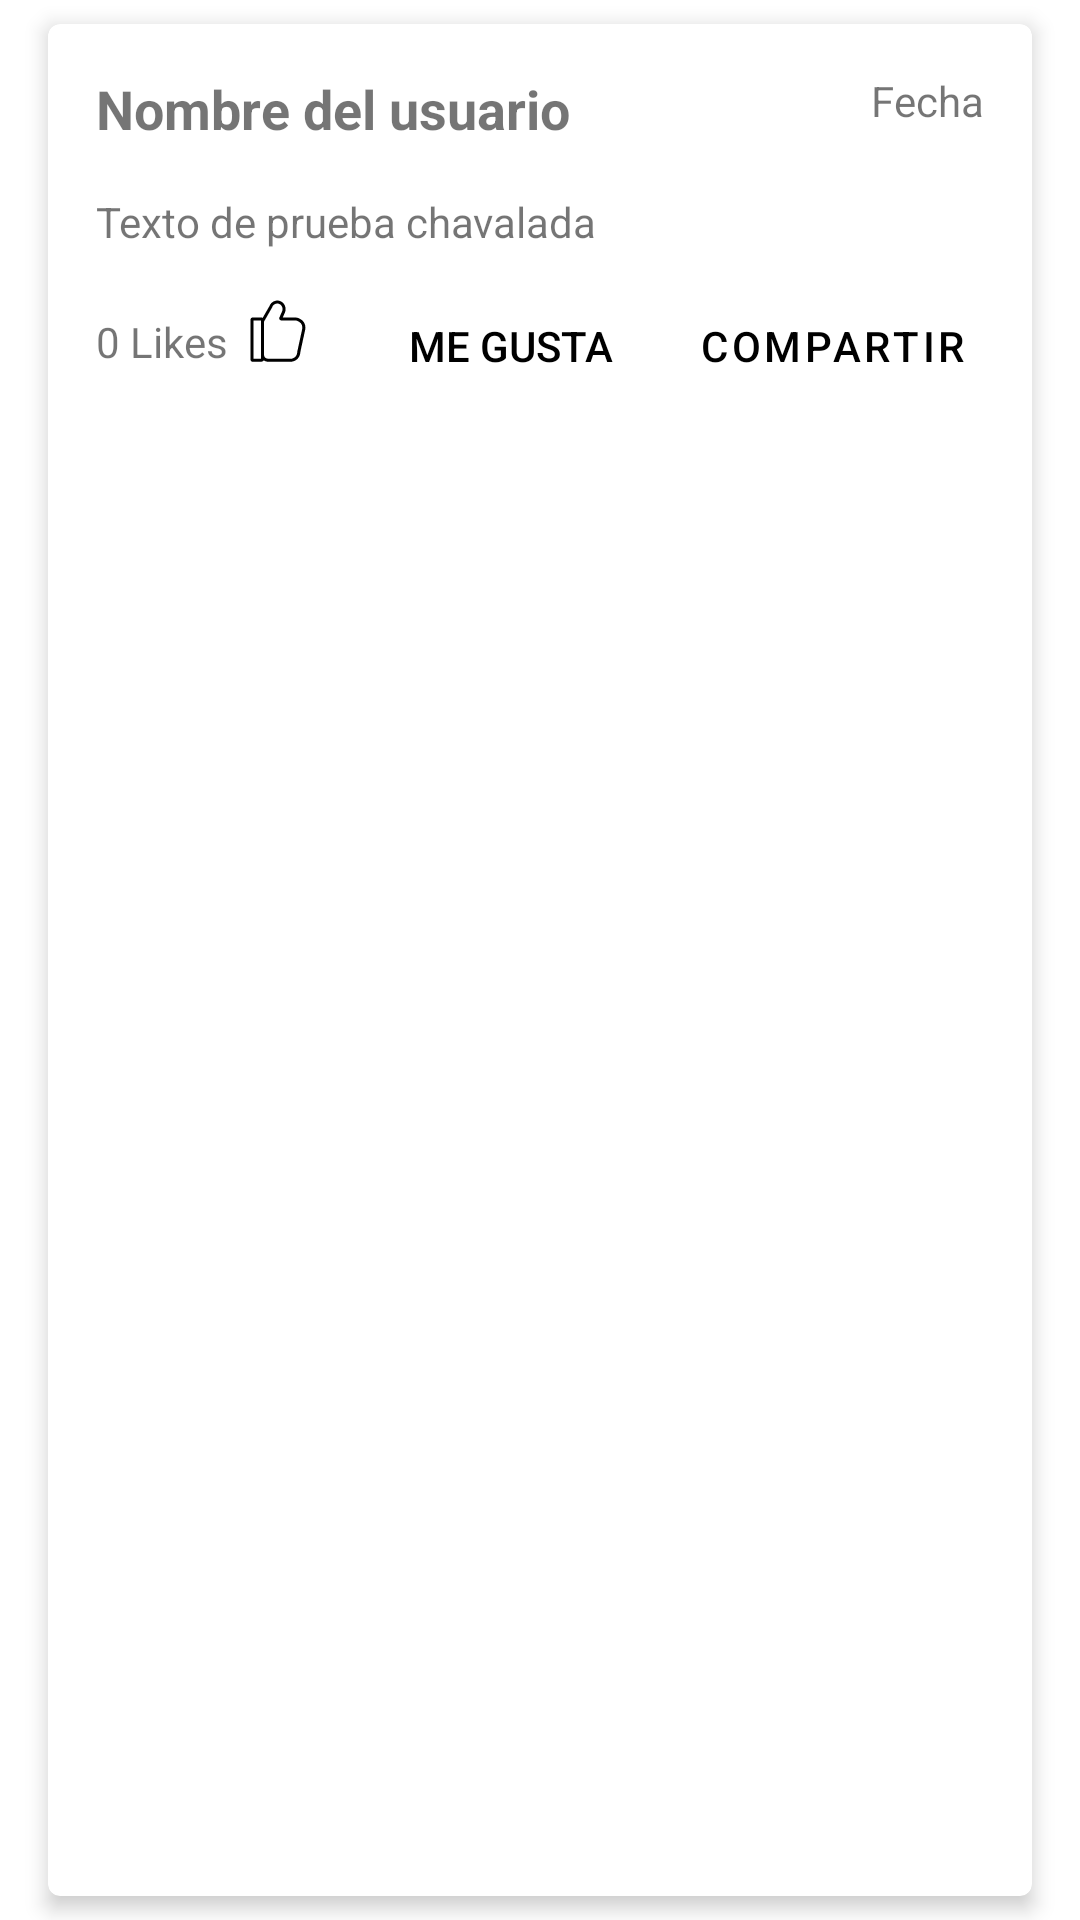

Named icons in this screenshot (1080×1920) and their bounding boxes, (x1,y1,x2,y2):
praveen minimal like: (250,300,306,362)
